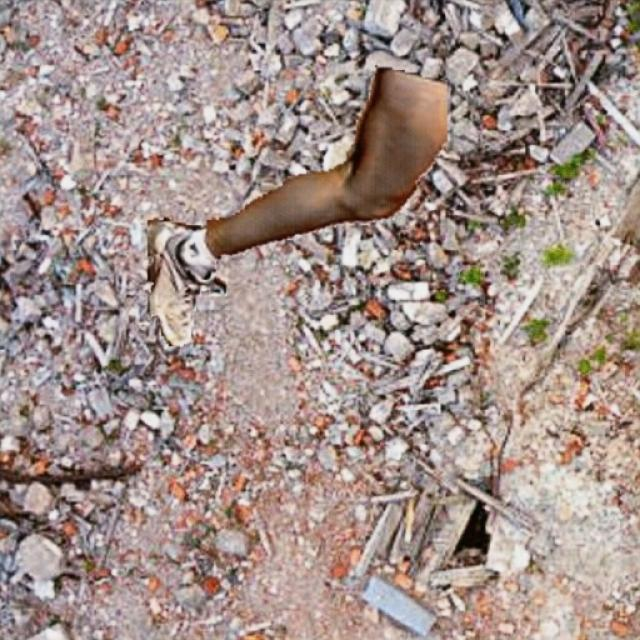Person in Rubble: (148, 65, 446, 348)
